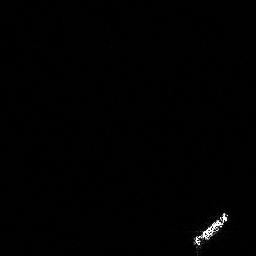ship: (190, 209, 232, 255)
